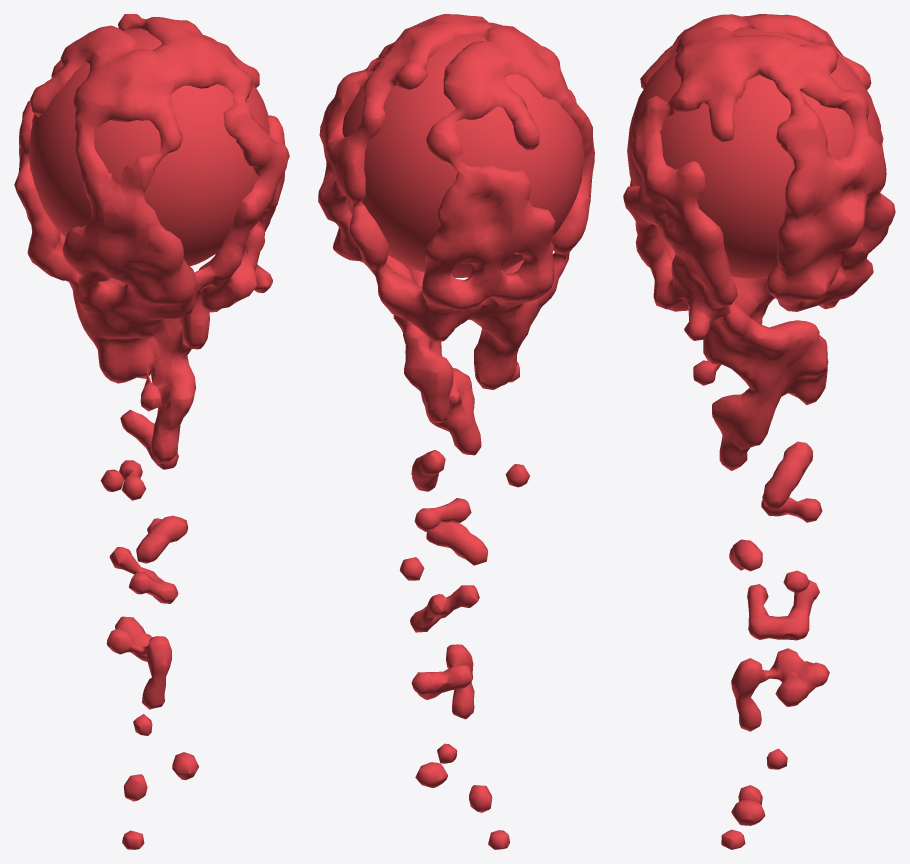
Rendered from Liquid2.fbx.
3 views of the same model, side by side, from view 1: azimuth 30°, elevation 25°; view 2: azimuth 150°, elevation 25°; view 3: azimuth 270°, elevation 25° (orthographic). The views are drawn at different scales.
Parts seen in each view (by area): view 1: Cube, Sphere; view 2: Cube, Sphere; view 3: Cube, Sphere.
Part boxes in pixels (x1,y1,x2,y2): Cube: [14, 14, 289, 849]; Sphere: [29, 28, 269, 266]; Cube: [318, 14, 594, 849]; Sphere: [342, 34, 584, 277]; Cube: [623, 14, 895, 849]; Sphere: [627, 27, 882, 278].
Size of the model in its own units: 318 by 1059 by 312.
